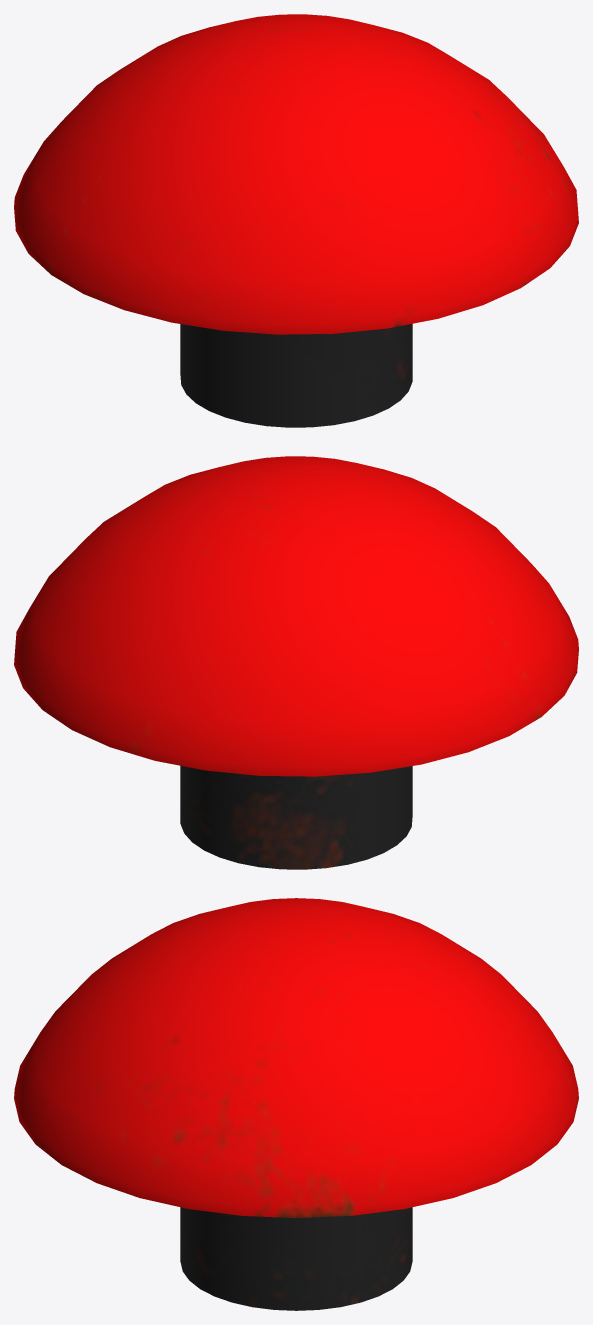
The model's file is red_button_button.gltf.
3 renders of one model, top to bottom at view 1: azimuth 30°, elevation 25°; view 2: azimuth 150°, elevation 25°; view 3: azimuth 270°, elevation 25°, orthographic.
Visible parts, largest first — view 1: button; view 2: button; view 3: button.
Part boxes in pixels (box(x1,y1,x2,y2)): button: box(14, 14, 578, 427); button: box(14, 456, 578, 869); button: box(14, 898, 578, 1310).
Bounding box in the file's own units: 0.3403 × 0.2224 × 0.3403.
1 material, 1 textured.
